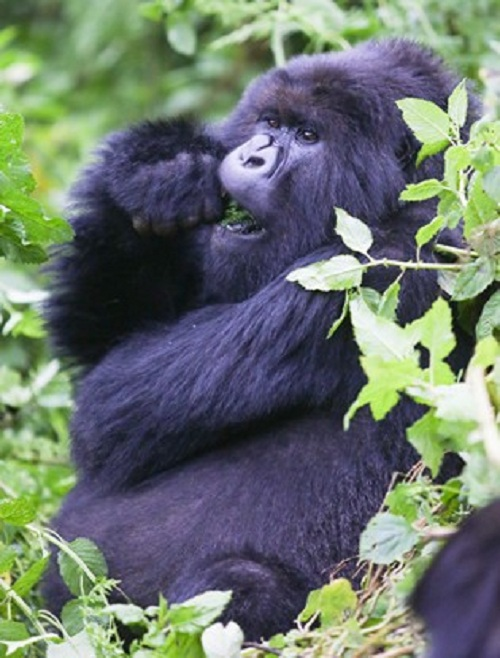Goriila: (55, 37, 500, 645)
